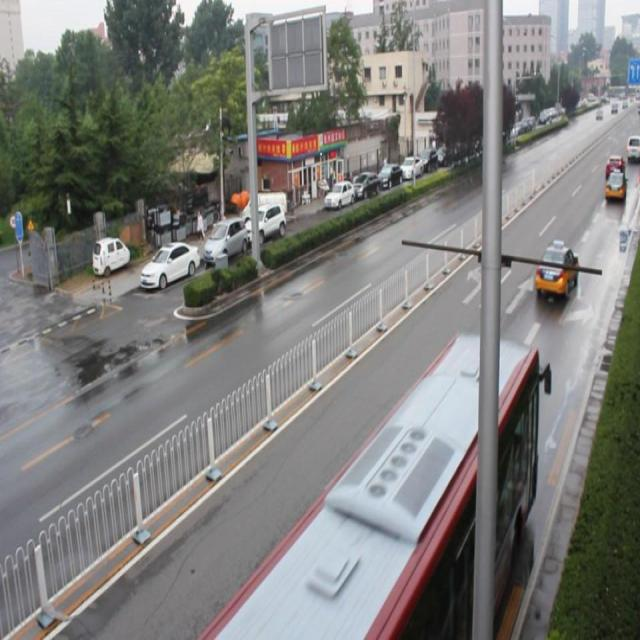car: (534, 238, 577, 296), (603, 168, 625, 200)
van: (202, 329, 550, 626)
